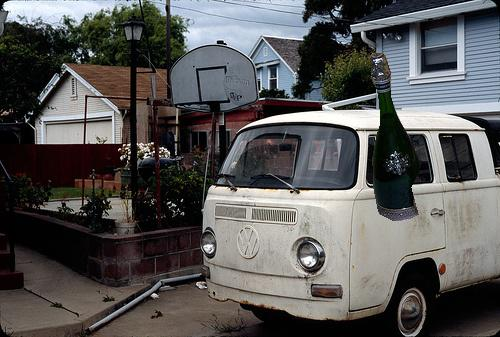tampered: (372, 54, 421, 221)
